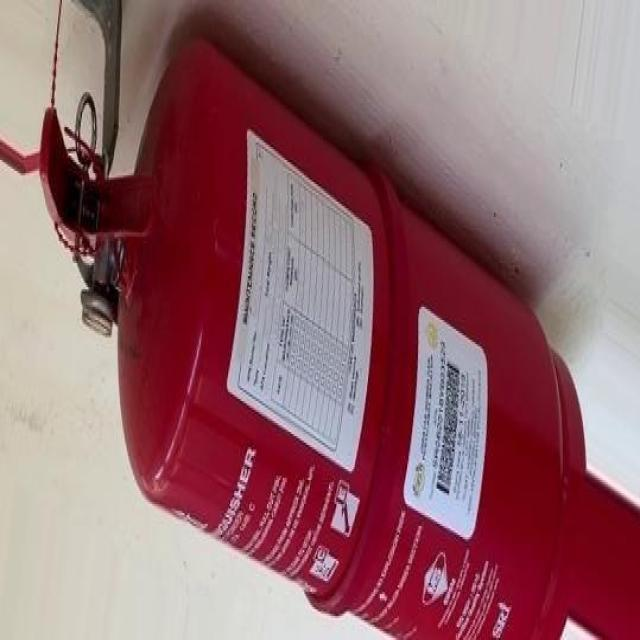fire_extinguisher: (33, 22, 588, 638)
